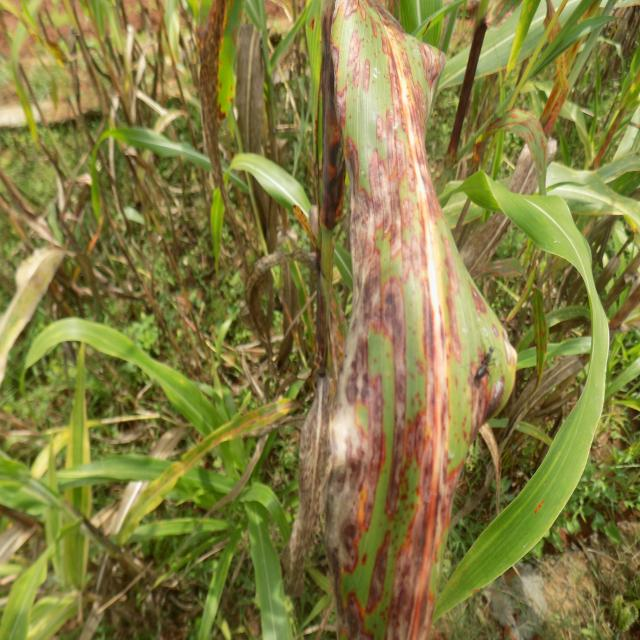millet_rust: (300, 0, 516, 640)
